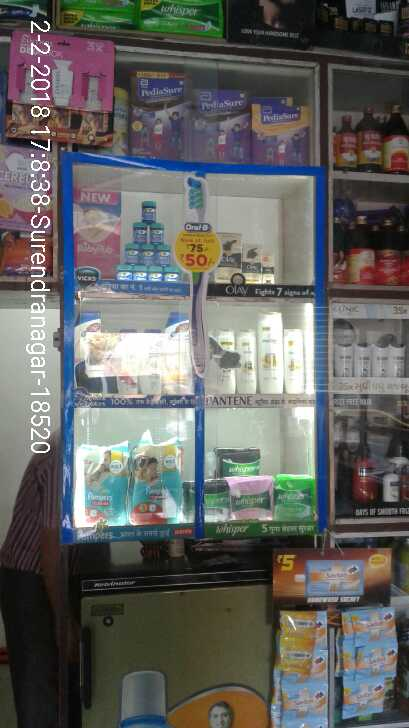vicks: (113, 196, 178, 289)
